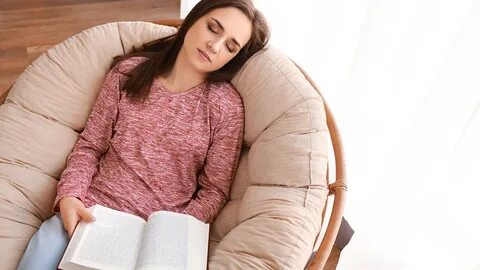sleep: (53, 1, 270, 222)
